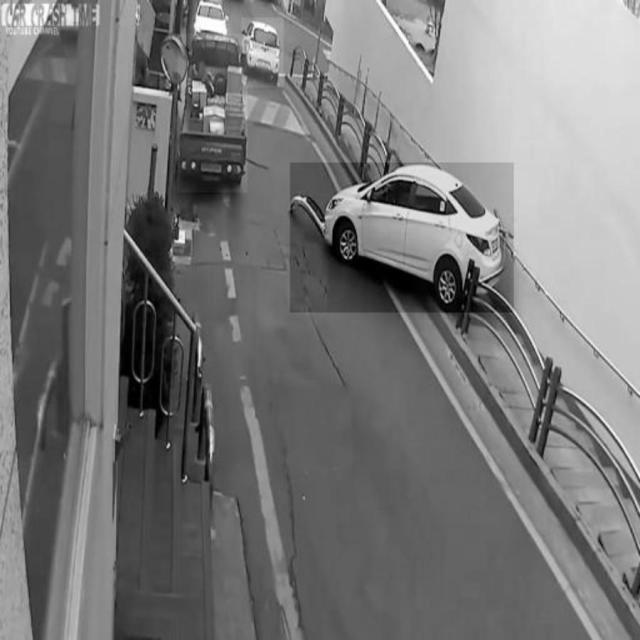accident: (290, 163, 514, 313)
vehicle: (178, 34, 248, 192), (242, 18, 284, 88)
